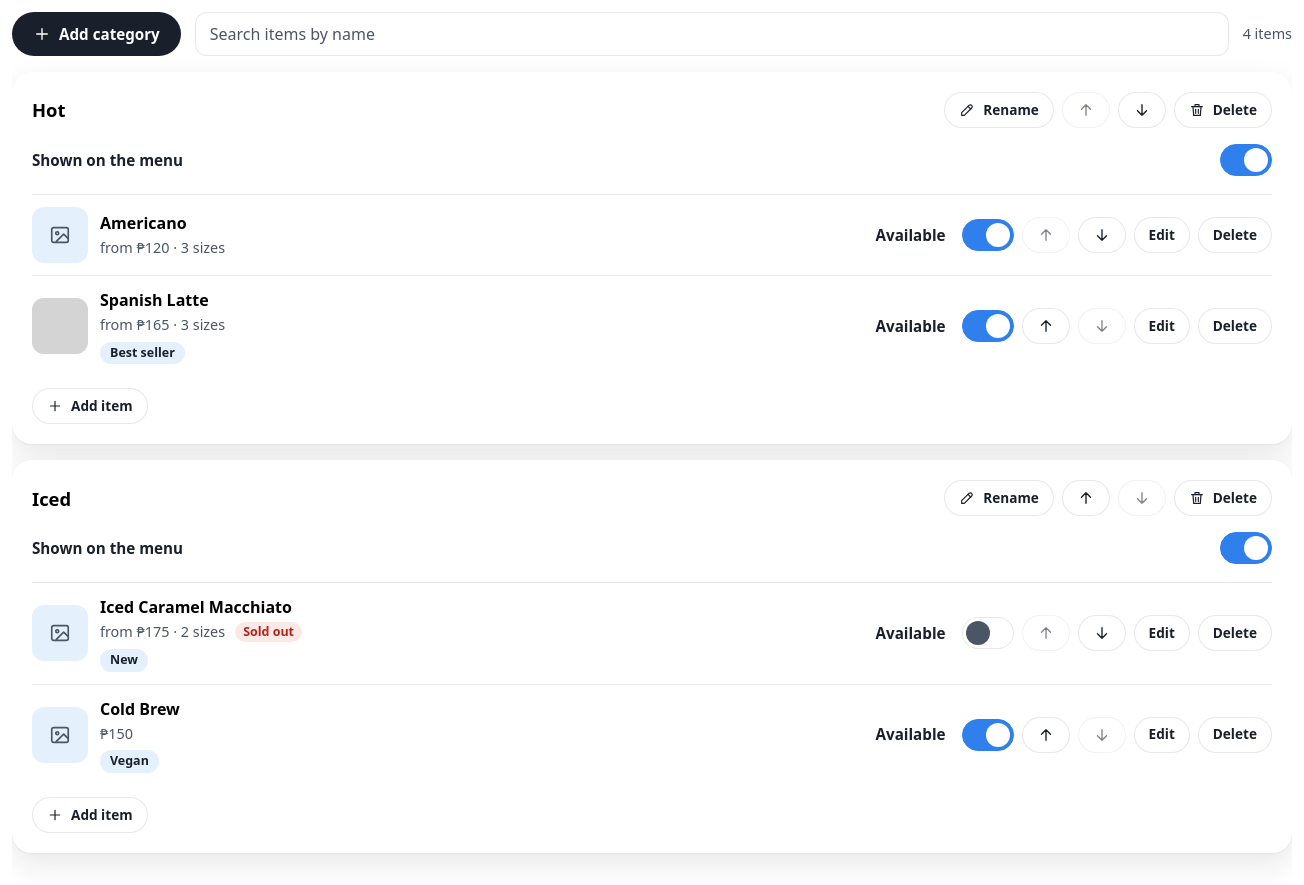
Test: ItemsTab changes a category › cancels a rename with Escape and returns the focus to Rename
This screenshot has width=1304, height=885.
Click the button with aria-label "Rename Hot".
click(999, 110)  # box [944, 92, 1054, 128]
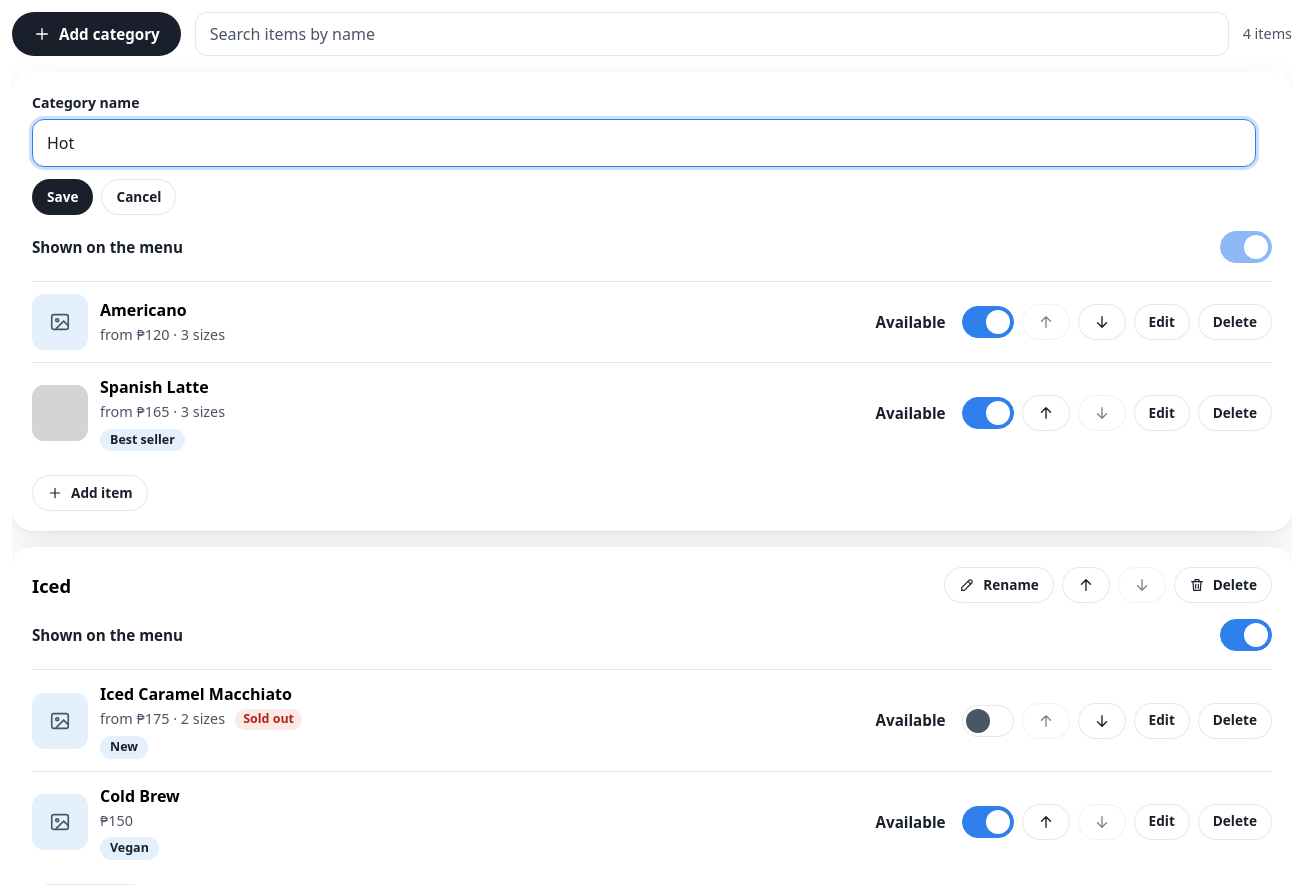
Press Escape
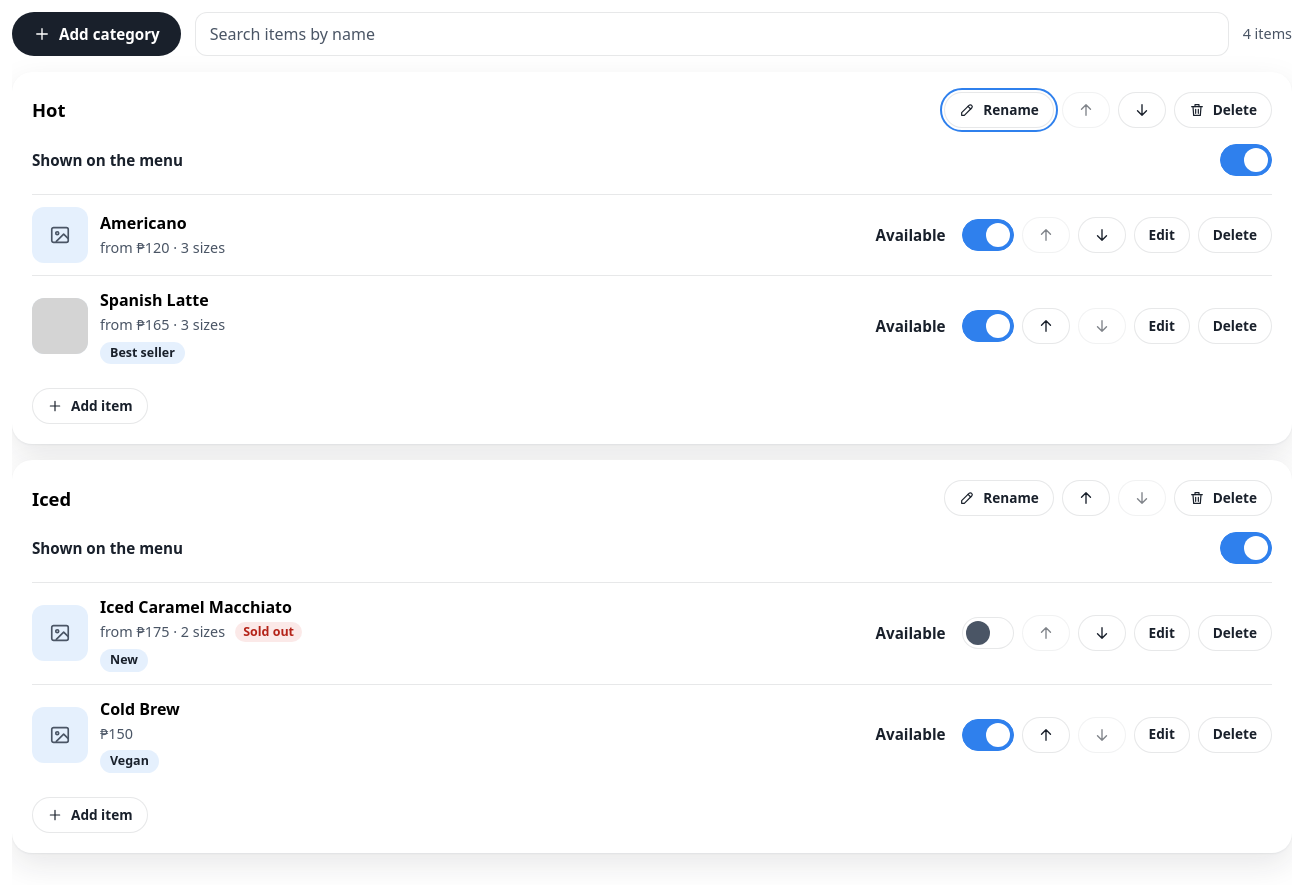
Result: the heading "Hot" is shown at [32, 97, 65, 122]
